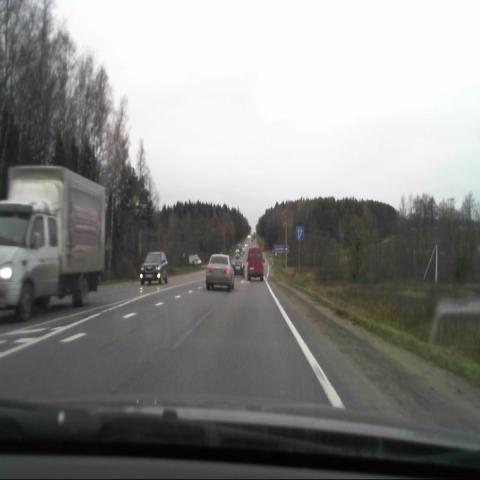5_15_3: (296, 225, 304, 241)
